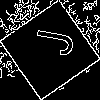J: (25, 25, 75, 58)
